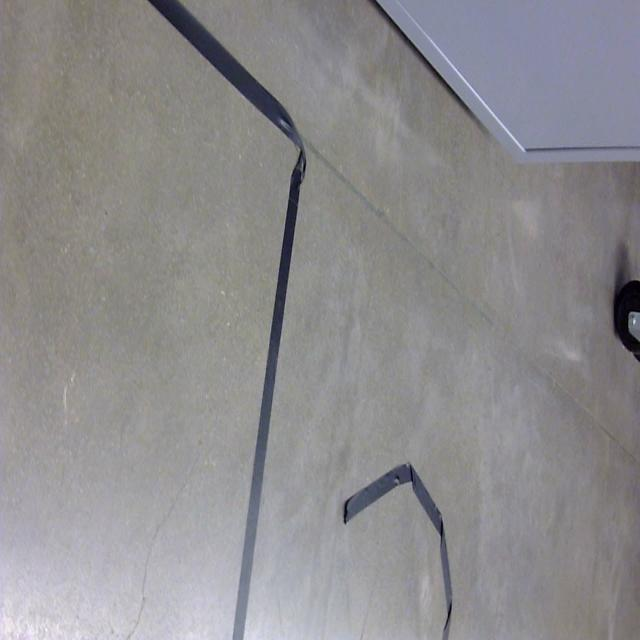tape: (122, 0, 328, 640), (333, 451, 466, 640)
